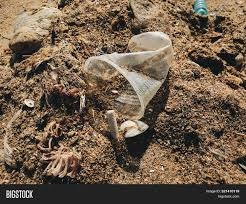plastic: (82, 28, 185, 134), (191, 1, 212, 18)
